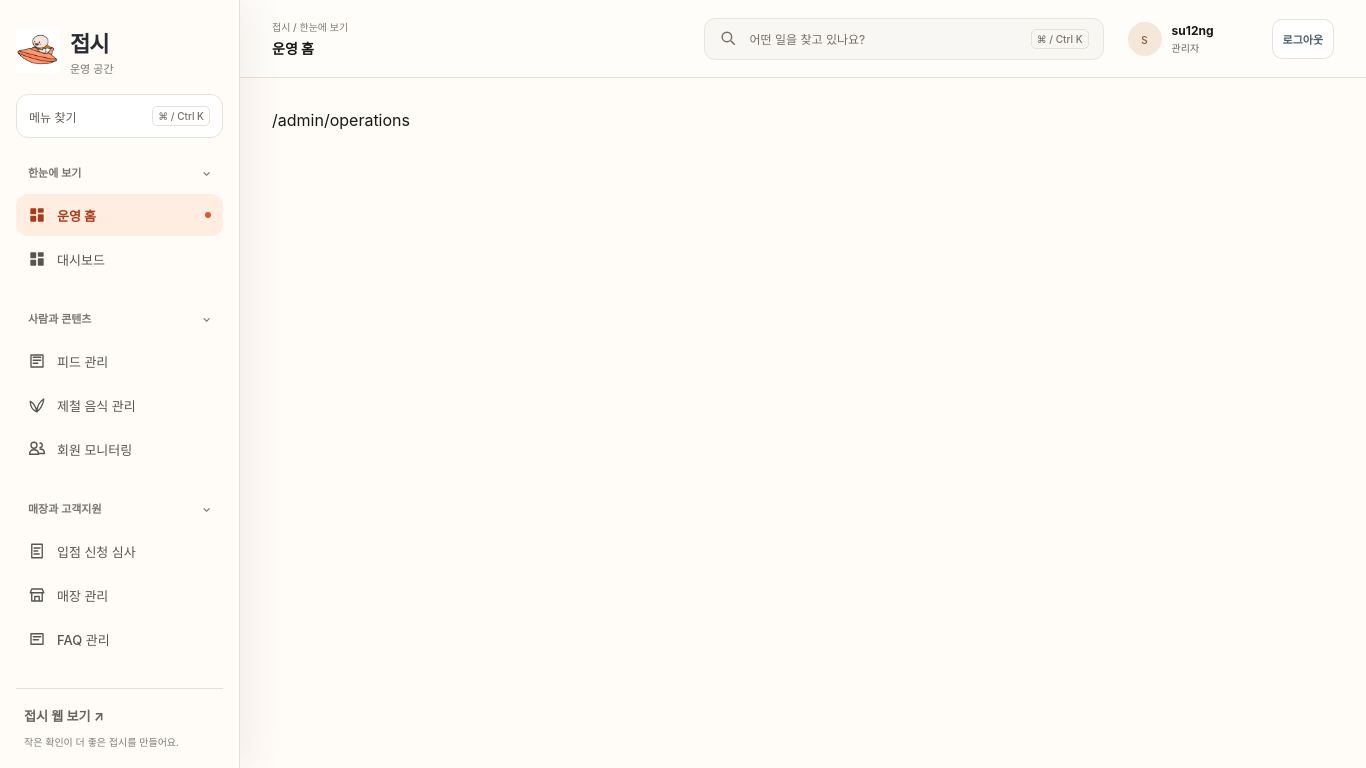
Test case: search covers hidden group keywords and reports empty results
Click the button with aria-label "메뉴 찾기".
click(807, 40)  # box [704,18,1104,60]
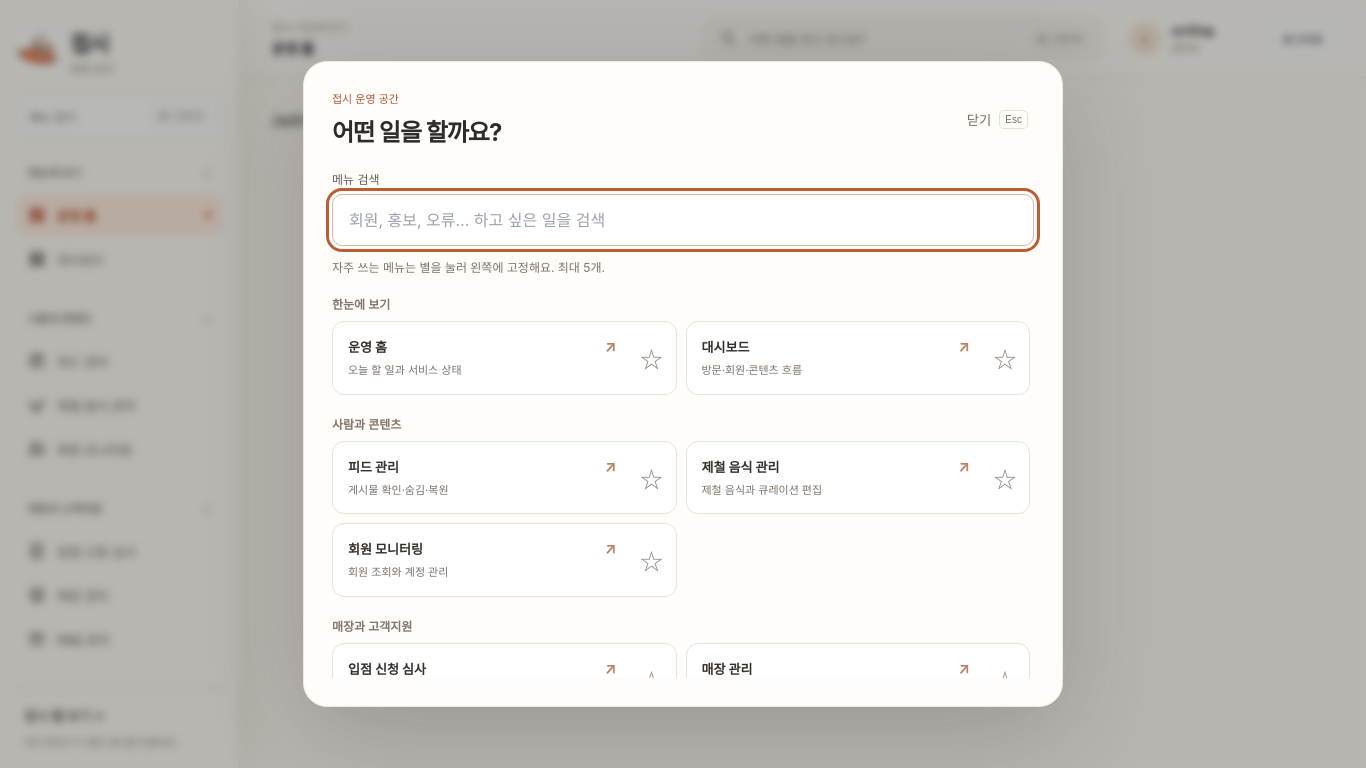
Type "배포" into the search field labelled "메뉴 검색".
click(683, 220); type("배포")  # box [332,194,1034,246]
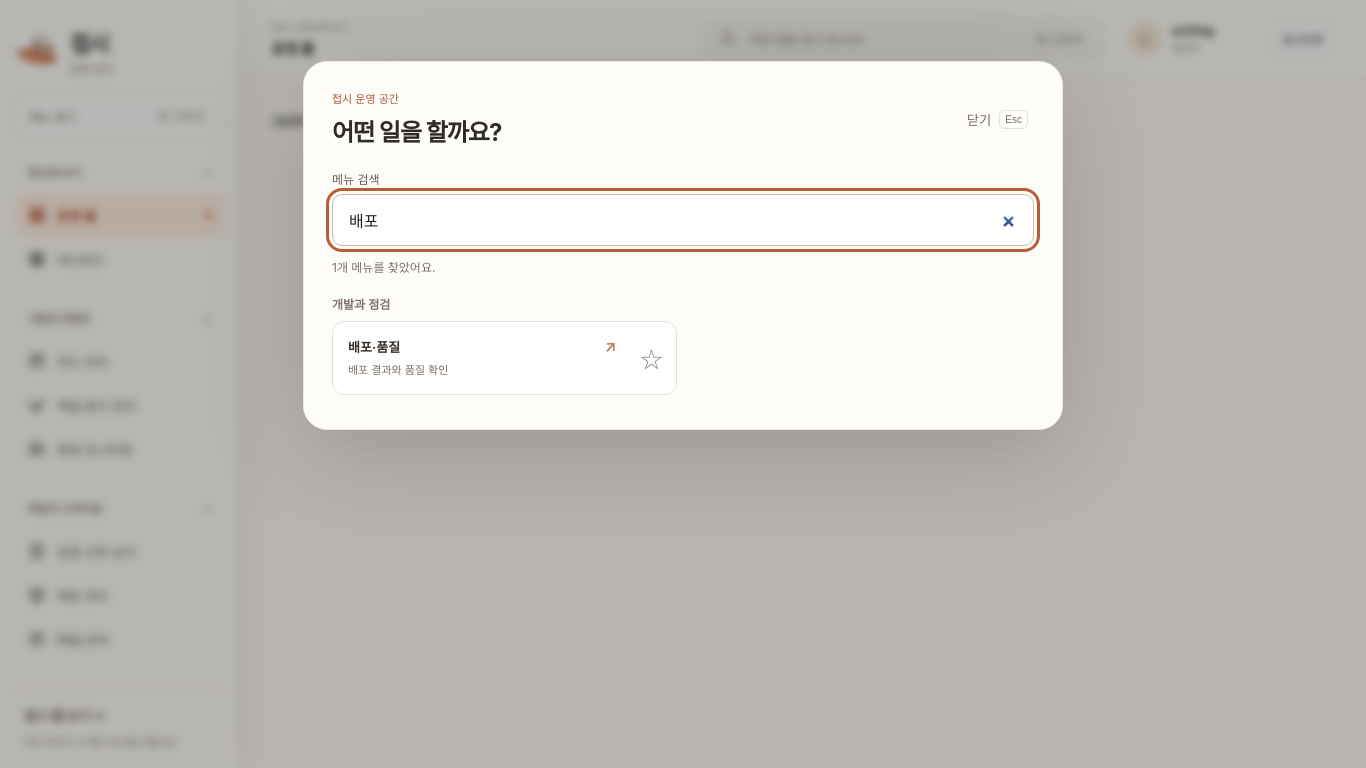
Result: the link "배포·품질 ↗ 배포 결과와 품질 확인" is shown at [348,337,616,377]
Replace the text in the search field labelled "메뉴 검색" with "존재하지않음" at (683, 220), box [332,194,1034,246]
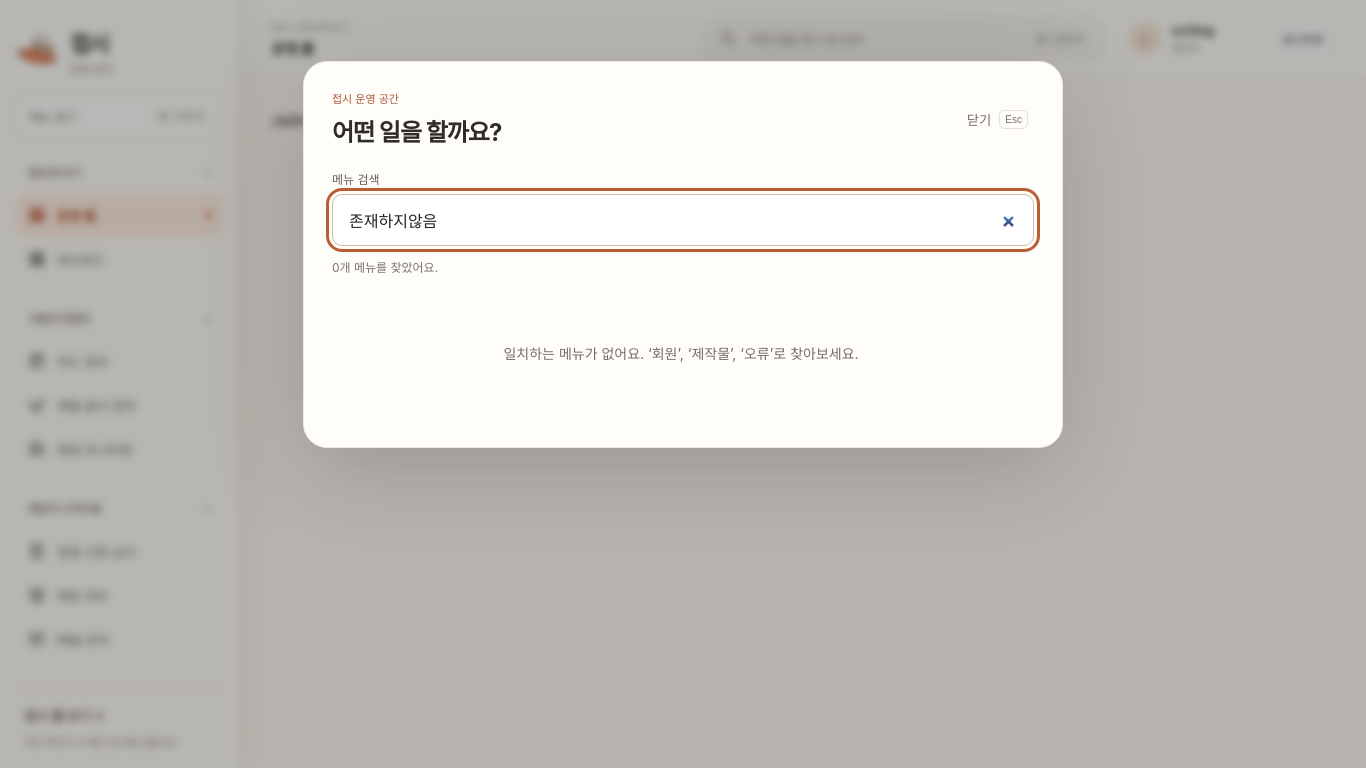
Result: the text "일치하는 메뉴가 없어요. ‘회원’, ‘제작물’, ‘오류’로 찾아보세요." is shown at [503,345,858,362]
